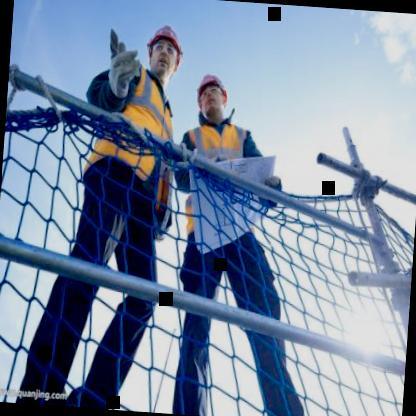helmet: (141, 11, 188, 86), (192, 66, 234, 127)
